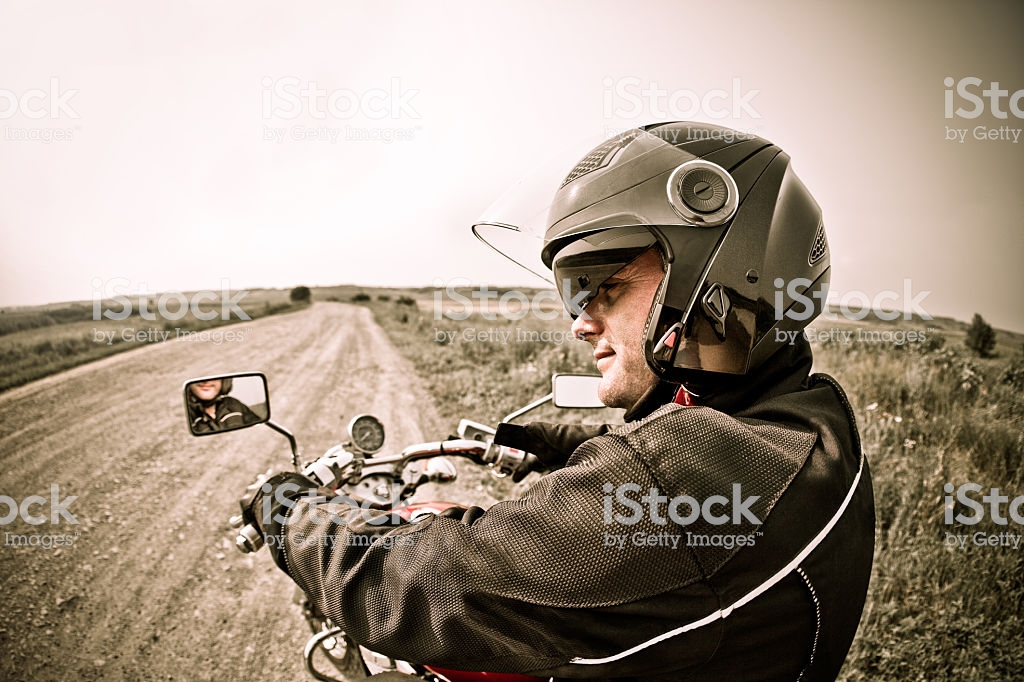helmet: (555, 121, 825, 365)
